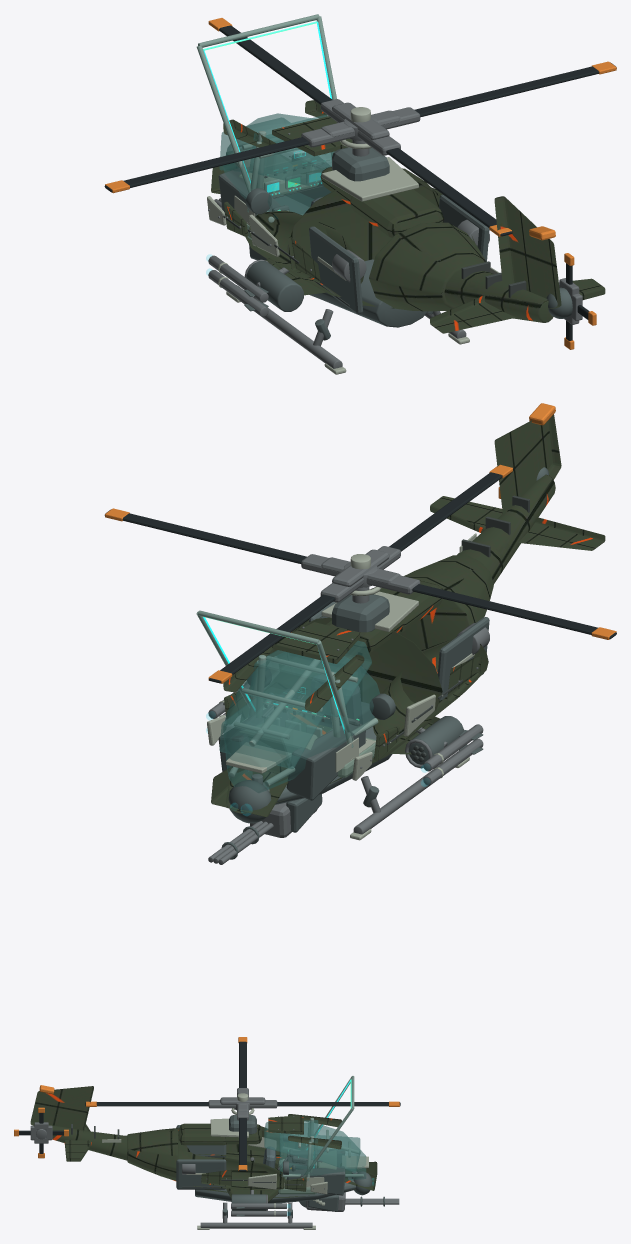
Rendered from pass65-chopper-gunner-lod0.glb.
3 views of the same model, one above another, from view 1: azimuth 30°, elevation 25°; view 2: azimuth 150°, elevation 25°; view 3: azimuth 270°, elevation 25° (orthographic). The views are drawn at different scales.
Visible parts, largest first — view 1: Chopper_TailRootCollar_LOD0, Chopper_CanopyGlass_LOD0, Chopper_TailFin_LOD0, Chopper_RearCabin_LOD0, Chopper_MainBlade_1_LOD0, Chopper_TailBoom_LOD0, Chopper_RearEngineCowling_LOD0, Chopper_MainBlade_2_LOD0, Chopper_TandemPilotCanopy_LOD0, Chopper_RearArmorDoor_-1_LOD0, Chopper_VentralKeel_LOD0, Chopper_MainBlade_0_LOD0 (+26 smaller); view 2: Chopper_CanopyGlass_LOD0, Chopper_TandemGunnerCanopy_LOD0, Chopper_TailRootCollar_LOD0, Chopper_TaperedFuselage_LOD0, Chopper_TandemPilotCanopy_LOD0, Chopper_TailFin_LOD0, Chopper_TailBoom_LOD0, Chopper_MainBlade_2_LOD0, Chopper_CheekArmor_-1_LOD0, Chopper_MainBlade_1_LOD0, Chopper_EnginePod_-1_LOD0, Chopper_CanopyRoofArmor_LOD0 (+18 smaller); view 3: Chopper_CanopyGlass_LOD0, Chopper_TailRootCollar_LOD0, Chopper_TailFin_LOD0, Chopper_TailBoom_LOD0, Chopper_TandemPilotCanopy_LOD0, Chopper_RearArmorDoor_1_LOD0, Chopper_EnginePod_1_LOD0, Chopper_TandemGunnerCanopy_LOD0, Chopper_VentralKeel_LOD0, Chopper_RearEngineCowling_LOD0, Chopper_MainBlade_0_LOD0, Chopper_CheekArmor_1_LOD0 (+29 smaller).
Part boxes in pixels (left/top/right/bottom): Chopper_TailRootCollar_LOD0: left=369, top=222, right=485, bottom=311; Chopper_CanopyGlass_LOD0: left=223, top=113, right=333, bottom=219; Chopper_TailFin_LOD0: left=494, top=196, right=561, bottom=309; Chopper_RearCabin_LOD0: left=286, top=179, right=475, bottom=308; Chopper_MainBlade_1_LOD0: left=105, top=63, right=613, bottom=192; Chopper_TailBoom_LOD0: left=444, top=269, right=553, bottom=322; Chopper_RearEngineCowling_LOD0: left=350, top=189, right=443, bottom=237; Chopper_MainBlade_2_LOD0: left=219, top=26, right=512, bottom=235; Chopper_TandemPilotCanopy_LOD0: left=249, top=114, right=333, bottom=185; Chopper_RearArmorDoor_-1_LOD0: left=309, top=226, right=362, bottom=314; Chopper_VentralKeel_LOD0: left=272, top=195, right=427, bottom=327; Chopper_MainBlade_0_LOD0: left=222, top=25, right=512, bottom=236; Chopper_CanopyGlass_LOD0: left=223, top=652, right=379, bottom=792; Chopper_TandemGunnerCanopy_LOD0: left=219, top=682, right=325, bottom=768; Chopper_TailRootCollar_LOD0: left=398, top=555, right=493, bottom=650; Chopper_TaperedFuselage_LOD0: left=226, top=617, right=442, bottom=813; Chopper_TandemPilotCanopy_LOD0: left=250, top=640, right=371, bottom=716; Chopper_TailFin_LOD0: left=494, top=414, right=561, bottom=515; Chopper_TailBoom_LOD0: left=457, top=474, right=555, bottom=584; Chopper_MainBlade_2_LOD0: left=210, top=472, right=501, bottom=683; Chopper_CheekArmor_-1_LOD0: left=286, top=723, right=365, bottom=800; Chopper_MainBlade_1_LOD0: left=104, top=509, right=616, bottom=638; Chopper_EnginePod_-1_LOD0: left=373, top=638, right=488, bottom=738; Chopper_CanopyRoofArmor_LOD0: left=272, top=622, right=359, bottom=663; Chopper_CanopyGlass_LOD0: left=279, top=1122, right=366, bottom=1180; Chopper_TailRootCollar_LOD0: left=127, top=1128, right=178, bottom=1180; Chopper_TailFin_LOD0: left=30, top=1086, right=93, bottom=1131; Chopper_TailBoom_LOD0: left=48, top=1124, right=127, bottom=1160; Chopper_TandemPilotCanopy_LOD0: left=264, top=1120, right=318, bottom=1160; Chopper_RearArmorDoor_1_LOD0: left=176, top=1159, right=226, bottom=1189; Chopper_EnginePod_1_LOD0: left=193, top=1157, right=283, bottom=1190; Chopper_TandemGunnerCanopy_LOD0: left=309, top=1135, right=360, bottom=1172; Chopper_VentralKeel_LOD0: left=195, top=1177, right=355, bottom=1203; Chopper_RearEngineCowling_LOD0: left=179, top=1123, right=226, bottom=1145; Chopper_MainBlade_0_LOD0: left=85, top=1102, right=400, bottom=1106; Chopper_CheekArmor_1_LOD0: left=286, top=1166, right=345, bottom=1195.
Bounding box in the file's own units: 7.45 × 3.28 × 14.25.
Materials: 19 (1 with a texture image).
